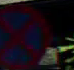No Stopping: (0, 1, 49, 69)
